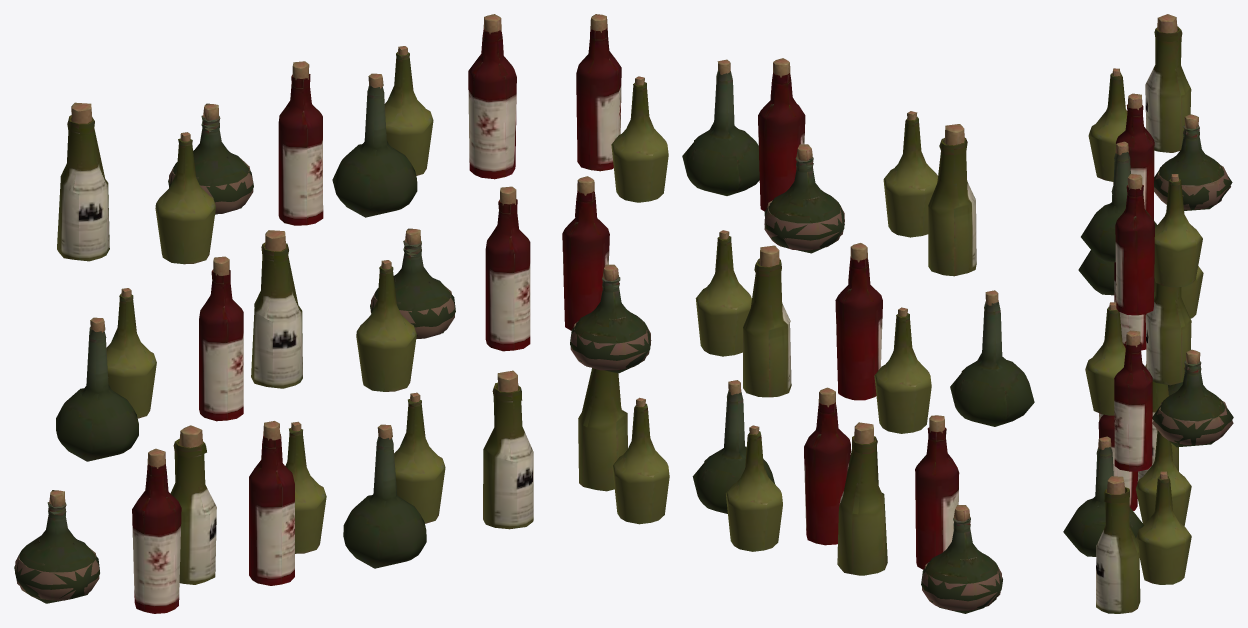
File: SM_cup_board_props_89654a.glb
3 views of the same model, side by side, from view 1: azimuth 30°, elevation 25°; view 2: azimuth 150°, elevation 25°; view 3: azimuth 270°, elevation 25° (orthographic). The views are drawn at different scales.
Bounding box in the file's own units: 1.42 × 1.39 × 0.5042.
1 material, 1 textured.
